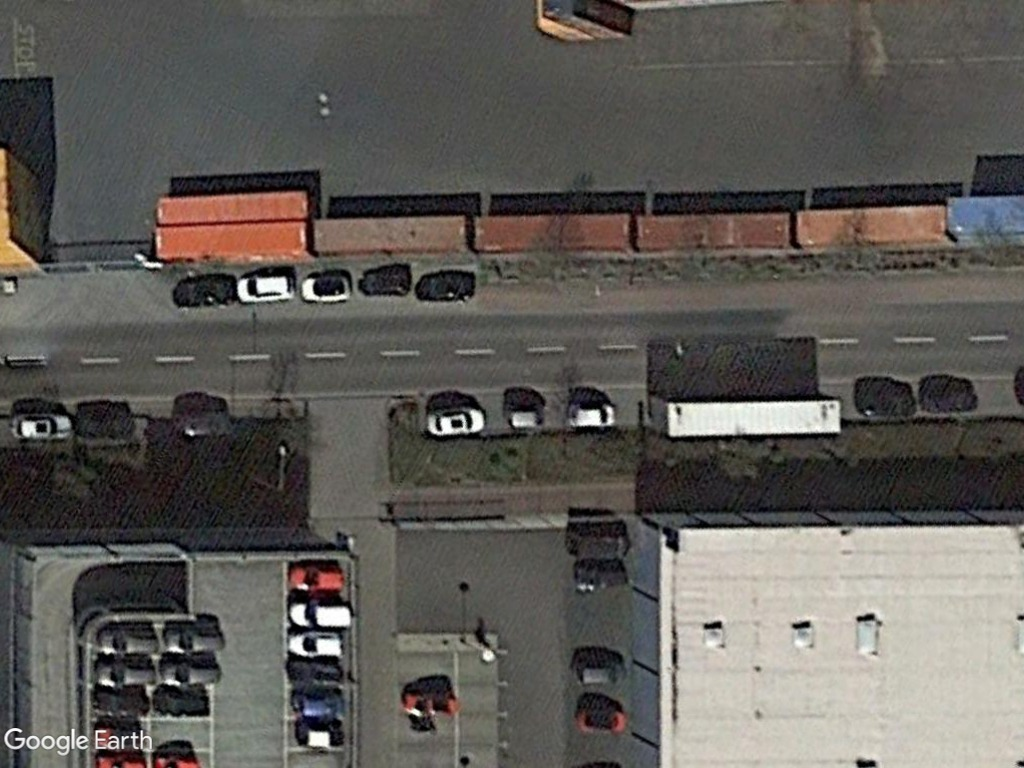car: (229, 266, 301, 308), (421, 403, 490, 439), (284, 597, 357, 630), (298, 270, 355, 307), (284, 629, 346, 659), (562, 402, 619, 434)
